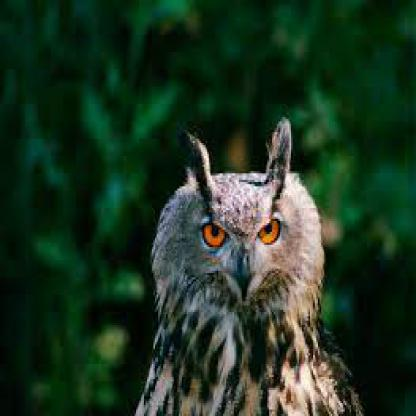owl: (138, 115, 414, 414)
